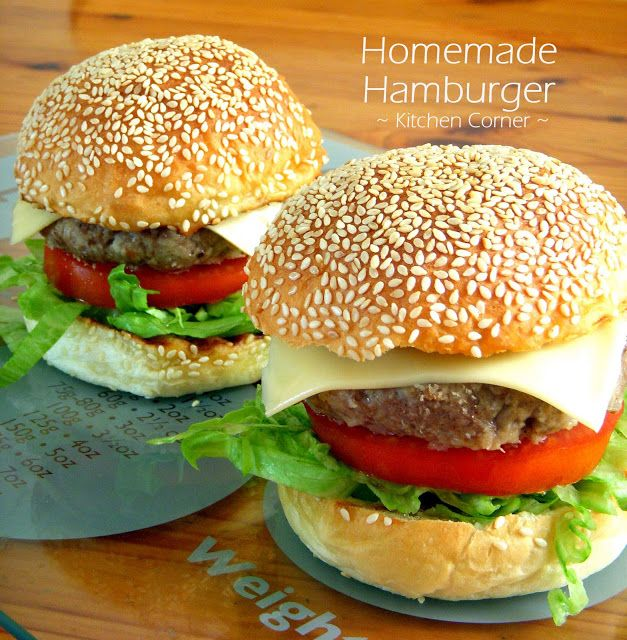hamburger_buns: (237, 150, 627, 370), (13, 30, 344, 246)
